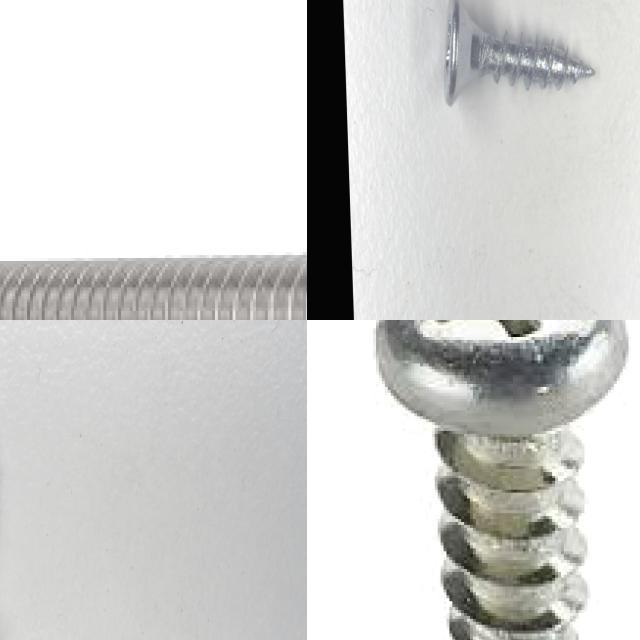Screw: (379, 320, 626, 640), (0, 255, 307, 320), (444, 0, 595, 105)
